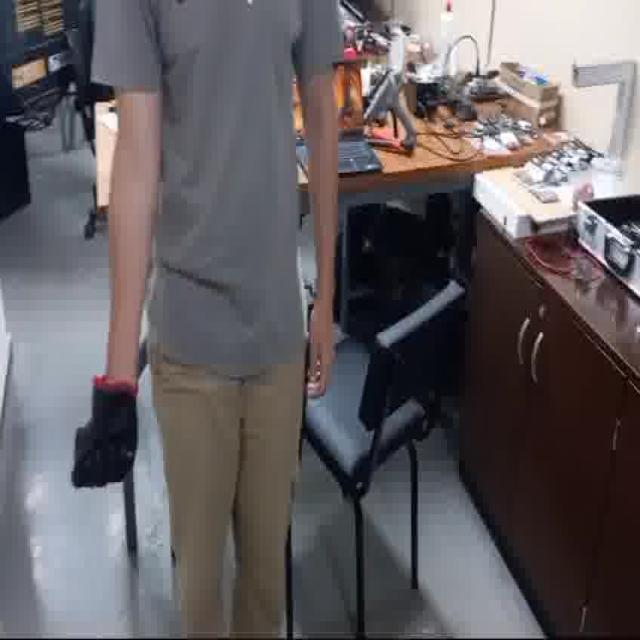Gloves: (72, 376, 139, 488)
